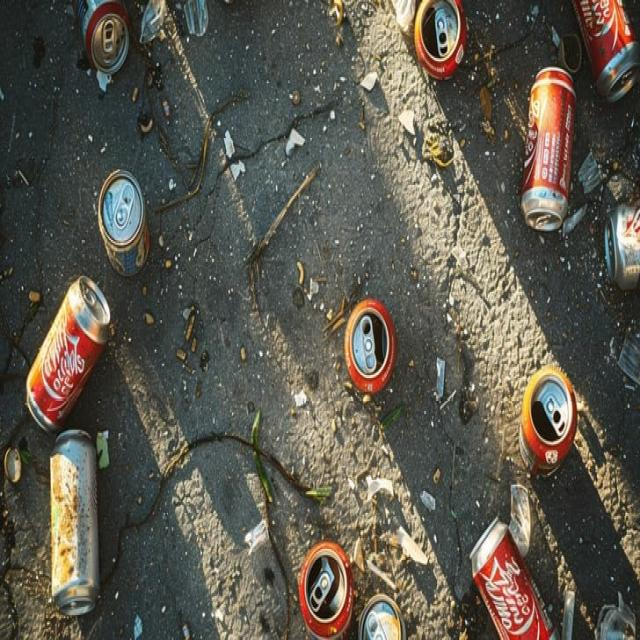aluminum_can: (21, 276, 121, 449), (457, 508, 577, 640), (40, 417, 114, 631), (385, 0, 487, 119), (327, 273, 408, 411), (524, 63, 577, 248), (498, 355, 586, 461), (288, 533, 368, 640), (76, 0, 146, 116), (580, 0, 637, 132), (86, 179, 157, 276), (605, 194, 640, 314)
